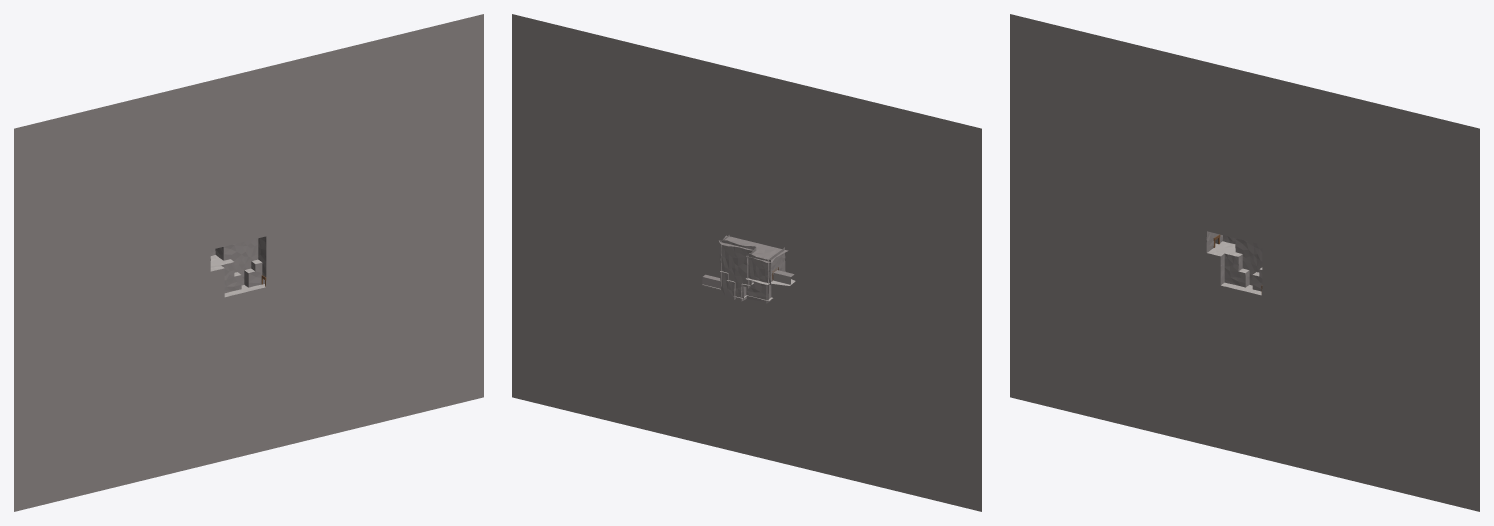
File: cave-F.glb
3 renders of one model, left to right at view 1: azimuth 30°, elevation 25°; view 2: azimuth 150°, elevation 25°; view 3: azimuth 330°, elevation 25°, orthographic.
Visible parts, largest first — view 1: cabe-F; view 2: cabe-F; view 3: cabe-F.
Boxes of the visible parts, <box> form: cabe-F: <box>14,14,483,511</box>; cabe-F: <box>512,14,981,511</box>; cabe-F: <box>1010,14,1479,511</box>.
Size of the model in its own units: 67.72 by 52.81 by 4.55.
Materials: 1 (1 with a texture image).
